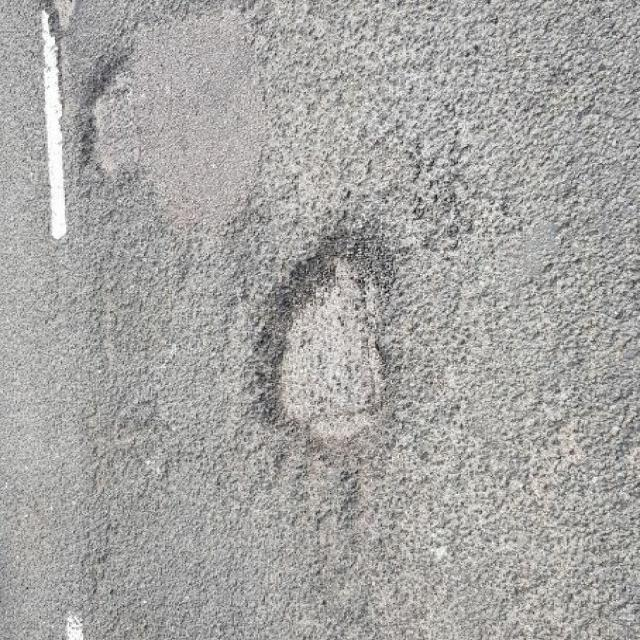Pothole: (244, 214, 412, 466), (65, 49, 175, 186)
